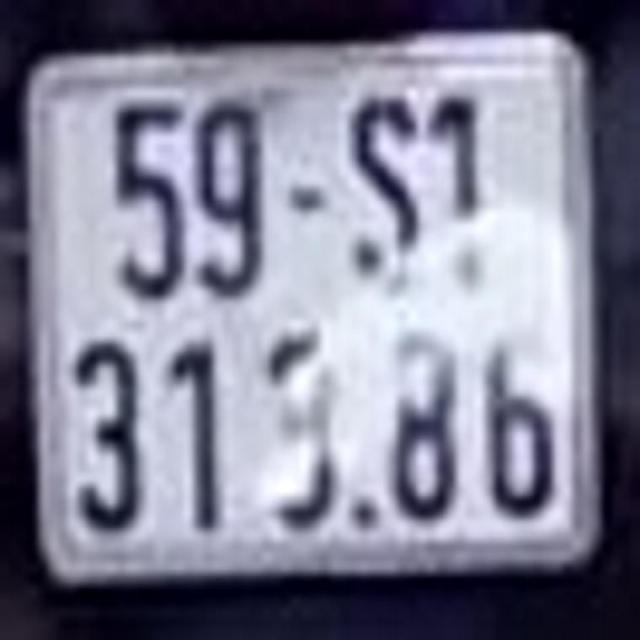1: (172, 332, 222, 538), (434, 98, 482, 293)
3: (72, 337, 146, 536)
5: (111, 96, 189, 293)
6: (488, 334, 556, 516)
8: (266, 322, 340, 543), (388, 336, 452, 514)
9: (194, 91, 266, 296)
S: (349, 101, 422, 278)
